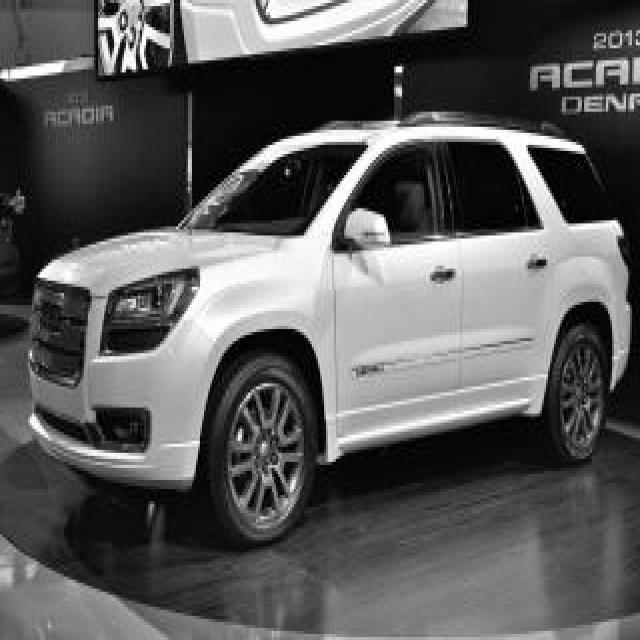Car: (30, 122, 629, 542)
